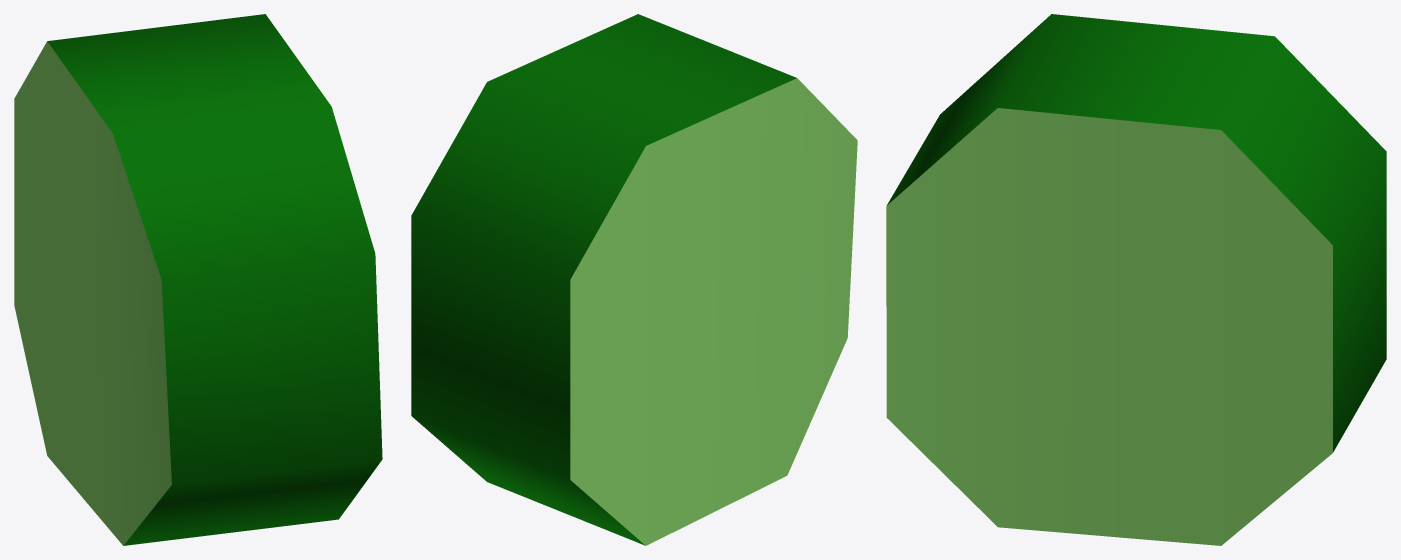
The model's file is mesh_CucumberSlice_Stage10.fbx.
3 views of the same model, side by side, from view 1: azimuth 30°, elevation 25°; view 2: azimuth 150°, elevation 25°; view 3: azimuth 270°, elevation 25° (orthographic). The views are drawn at different scales.
Parts seen in each view (by area): view 1: mesh_CucumberSlice_Stage10; view 2: mesh_CucumberSlice_Stage10; view 3: mesh_CucumberSlice_Stage10.
Part boxes in pixels (left/top/right/bottom): mesh_CucumberSlice_Stage10: left=14, top=14, right=382, bottom=545; mesh_CucumberSlice_Stage10: left=411, top=14, right=857, bottom=545; mesh_CucumberSlice_Stage10: left=886, top=14, right=1386, bottom=545.
Bounding box in the file's own units: 0.0247 × 0.0367 × 0.04.
